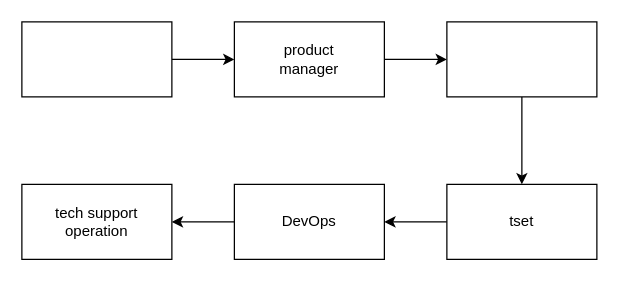
Some shapes in this 619 by 281 pixel diagram are drawn without their labels. The shapes that lost their labels are listed below. From the top down, each one's box as (x1, y1, x2, y2) in pixels, then its label:
(21, 21, 172, 97): pre-sale solution architect
(446, 21, 597, 97): SDE
